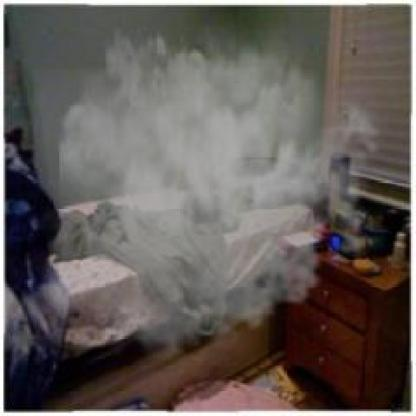Smoke: (33, 3, 392, 371)
